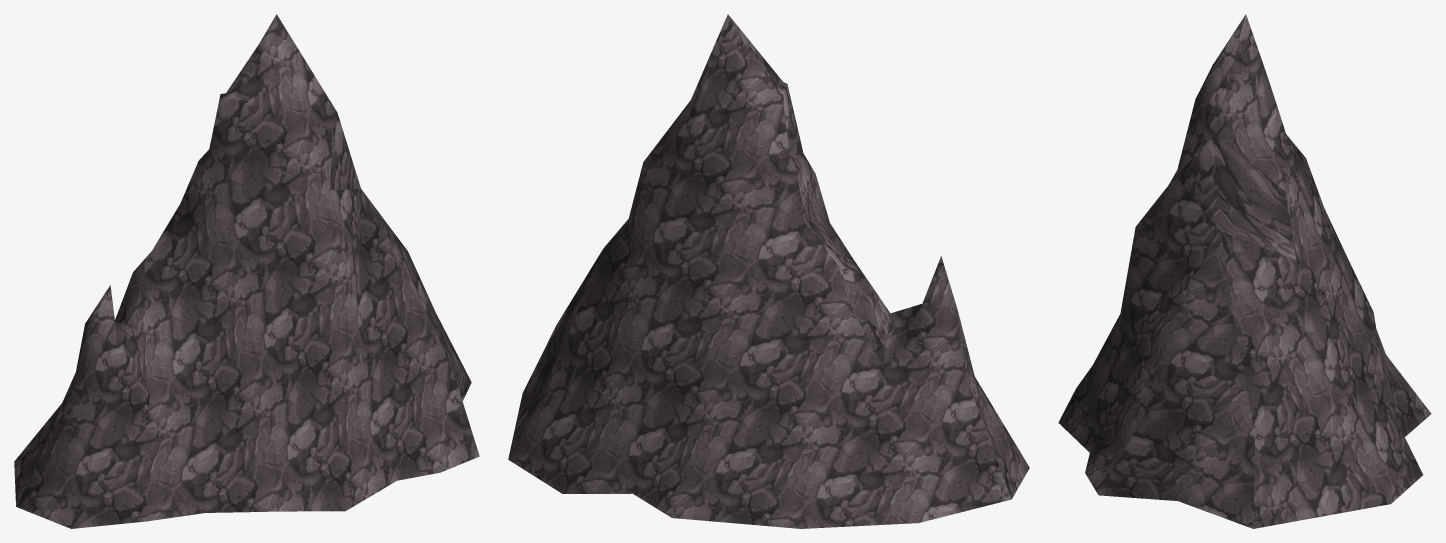
The model's file is BOSS_Hill_01.FBX.
The picture shows the model from 3 angles, left to right: view 1: azimuth 30°, elevation 25°; view 2: azimuth 150°, elevation 25°; view 3: azimuth 270°, elevation 25°; orthographic projection.
Parts seen in each view (by area): view 1: BOSS_Hill_01; view 2: BOSS_Hill_01; view 3: BOSS_Hill_01.
Boxes of the visible parts, x1=… form: BOSS_Hill_01: x1=14, y1=14, x2=479, y2=528; BOSS_Hill_01: x1=508, y1=14, x2=1029, y2=528; BOSS_Hill_01: x1=1058, y1=14, x2=1431, y2=528.
Size of the model in its own units: 68.56 by 59.56 by 47.4.
